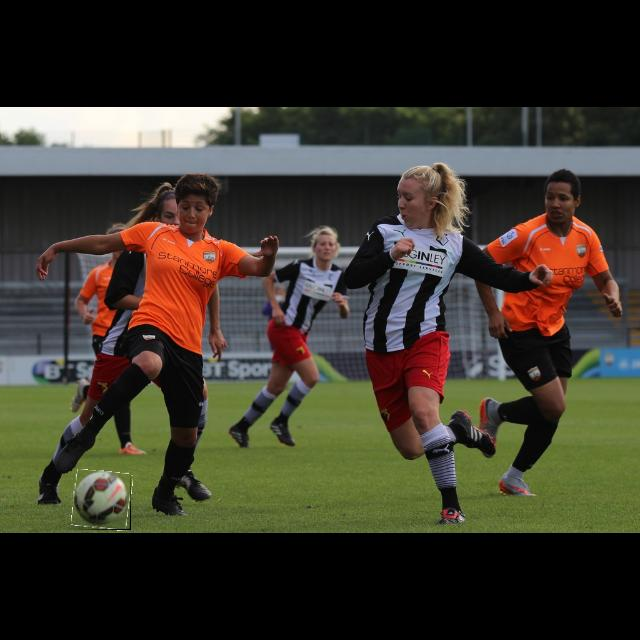Football: (73, 470, 131, 530)
